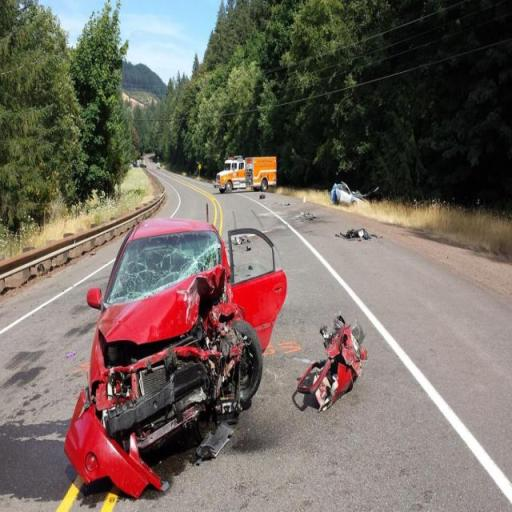Car: (76, 216, 289, 497), (330, 177, 369, 212)
Minor Accident: (62, 177, 378, 512)
